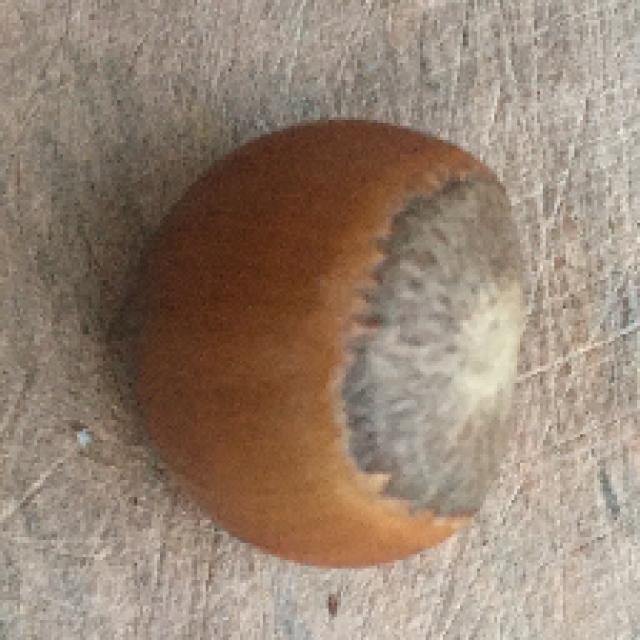damagedHazelnut: (123, 96, 540, 591)
